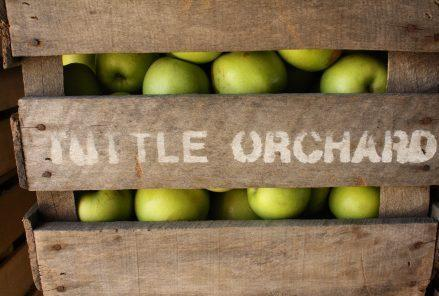apple: (212, 51, 286, 93), (319, 52, 388, 93), (144, 53, 209, 94), (136, 188, 209, 221), (96, 51, 155, 91), (248, 185, 313, 218), (328, 185, 380, 219), (278, 47, 342, 72), (77, 191, 129, 220), (211, 187, 254, 220)
